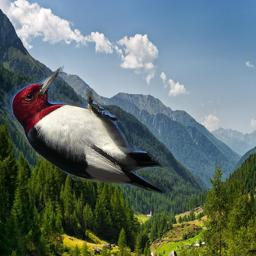Woodpecker: (3, 65, 174, 195)
